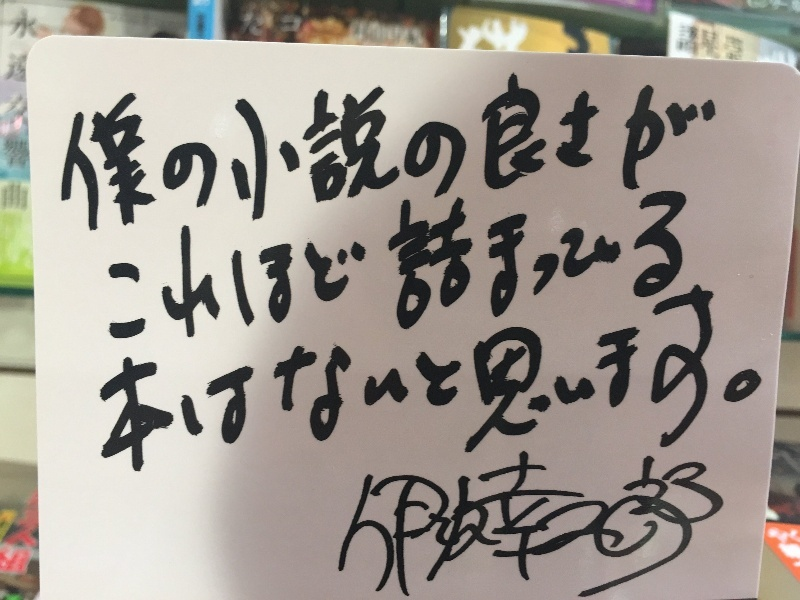text: (113, 276, 128, 522), (129, 276, 144, 522), (145, 276, 160, 522), (161, 276, 176, 522), (177, 276, 192, 522), (193, 276, 208, 522), (209, 276, 224, 522), (225, 276, 240, 522), (241, 276, 256, 522), (257, 276, 272, 522), (273, 276, 288, 522), (289, 276, 304, 522), (305, 276, 320, 522), (321, 276, 336, 522), (337, 276, 352, 522), (353, 276, 368, 522), (369, 276, 384, 522), (385, 276, 400, 522), (401, 276, 416, 522), (417, 276, 432, 522), (433, 276, 448, 522), (449, 276, 464, 522), (465, 276, 480, 522), (481, 276, 496, 522), (497, 276, 512, 522), (513, 276, 528, 522), (529, 276, 544, 522), (545, 276, 560, 522), (561, 276, 576, 522), (577, 276, 592, 522), (593, 276, 608, 522), (609, 276, 624, 522), (625, 276, 640, 522), (641, 276, 656, 522), (657, 276, 672, 522), (673, 276, 688, 522), (689, 276, 704, 522), (705, 276, 720, 522), (721, 276, 736, 522), (737, 276, 752, 522), (753, 276, 768, 522), (99, 276, 112, 522), (113, 175, 128, 367), (129, 175, 144, 367), (145, 175, 160, 367), (161, 175, 176, 367), (177, 175, 192, 367), (193, 175, 208, 367), (209, 175, 224, 367), (225, 175, 240, 367), (241, 175, 256, 367), (257, 175, 272, 367), (273, 175, 288, 367), (289, 175, 304, 367), (305, 175, 320, 367), (321, 175, 336, 367), (337, 175, 352, 367), (353, 175, 368, 367), (369, 175, 384, 367), (385, 175, 400, 367), (401, 175, 416, 367), (417, 175, 432, 367), (433, 175, 448, 367), (449, 175, 464, 367), (465, 175, 480, 367), (481, 175, 496, 367), (497, 175, 512, 367), (513, 175, 528, 367), (529, 175, 544, 367), (545, 175, 560, 367), (561, 175, 576, 367), (577, 175, 592, 367), (593, 175, 608, 367), (609, 175, 624, 367), (625, 175, 640, 367), (641, 175, 656, 367), (657, 175, 672, 367), (673, 175, 688, 367), (65, 64, 80, 246), (81, 64, 96, 246), (97, 64, 112, 246), (113, 64, 128, 246), (129, 64, 144, 246), (145, 64, 160, 246), (161, 64, 176, 246), (177, 64, 192, 246), (193, 64, 208, 246), (209, 64, 224, 246), (225, 64, 240, 246), (241, 64, 256, 246), (257, 64, 272, 246), (273, 64, 288, 246), (289, 64, 304, 246), (305, 64, 320, 246), (321, 64, 336, 246), (337, 64, 352, 246), (353, 64, 368, 246), (369, 64, 384, 246), (385, 64, 400, 246), (401, 64, 416, 246), (417, 64, 432, 246), (433, 64, 448, 246), (449, 64, 464, 246), (465, 64, 480, 246), (481, 64, 496, 246), (497, 64, 512, 246), (513, 64, 528, 246), (529, 64, 544, 246), (545, 64, 560, 246), (561, 64, 576, 246), (577, 64, 592, 246), (593, 64, 608, 246), (609, 64, 624, 246), (625, 64, 640, 246), (641, 64, 656, 246), (657, 64, 672, 246), (673, 64, 688, 246), (689, 64, 704, 246), (369, 428, 384, 598), (385, 428, 400, 598), (401, 428, 416, 598), (417, 428, 432, 598), (433, 428, 448, 598), (449, 428, 464, 598), (465, 428, 480, 598), (481, 428, 496, 598), (497, 428, 512, 598), (513, 428, 528, 598), (529, 428, 544, 598), (545, 428, 560, 598), (561, 428, 576, 598), (577, 428, 592, 598), (593, 428, 608, 598), (609, 428, 624, 598), (625, 428, 640, 598), (641, 428, 656, 598), (657, 428, 672, 598), (673, 428, 688, 598), (689, 428, 704, 598), (705, 428, 720, 598), (721, 428, 736, 598), (705, 64, 719, 246), (356, 428, 368, 598), (54, 64, 64, 246), (104, 175, 112, 367), (689, 175, 694, 367)
